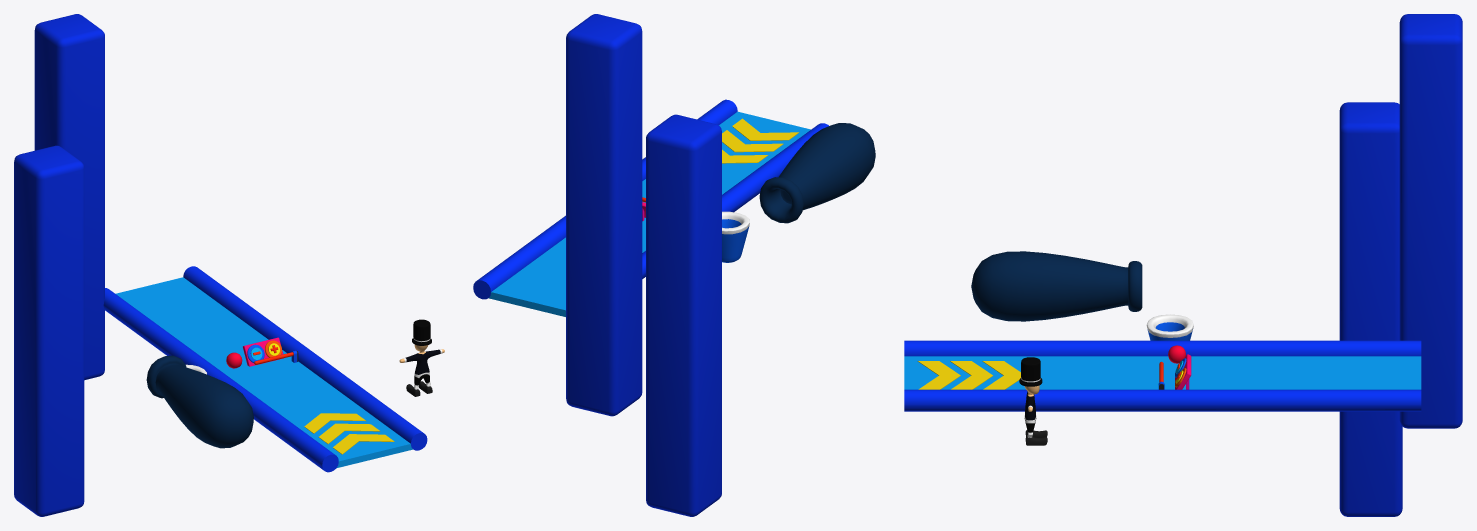
Rendered from walkManGame.fbx.
3 renders of one model, left to right at view 1: azimuth 30°, elevation 25°; view 2: azimuth 150°, elevation 25°; view 3: azimuth 270°, elevation 25°, orthographic. The views are drawn at different scales.
Visible parts, largest first — view 1: Куб, Куб.010, Куб.002, Куб.009, Cube; view 2: Куб.002, Куб, Куб.010, Куб.009, Куб.008; view 3: Куб.010, Куб.002, Куб, Куб.009, Куб.008, Cube.
Part boxes in pixels (box(x1,y1,x2,y2)): Куб: box(14, 145, 84, 516); Куб.010: box(103, 266, 427, 472); Куб.002: box(34, 14, 104, 380); Куб.009: box(146, 355, 253, 448); Cube: box(399, 319, 444, 386); Куб.002: box(566, 14, 642, 416); Куб: box(646, 114, 721, 516); Куб.010: box(473, 99, 828, 316); Куб.009: box(759, 123, 875, 223); Куб.008: box(722, 211, 749, 262); Куб.010: box(904, 340, 1421, 411); Куб.002: box(1399, 14, 1462, 428); Куб: box(1339, 102, 1402, 516); Куб.009: box(971, 251, 1142, 321); Куб.008: box(1146, 314, 1193, 340); Cube: box(1019, 357, 1042, 433).
Size of the model in its own units: 3275 by 5199 by 5180.
